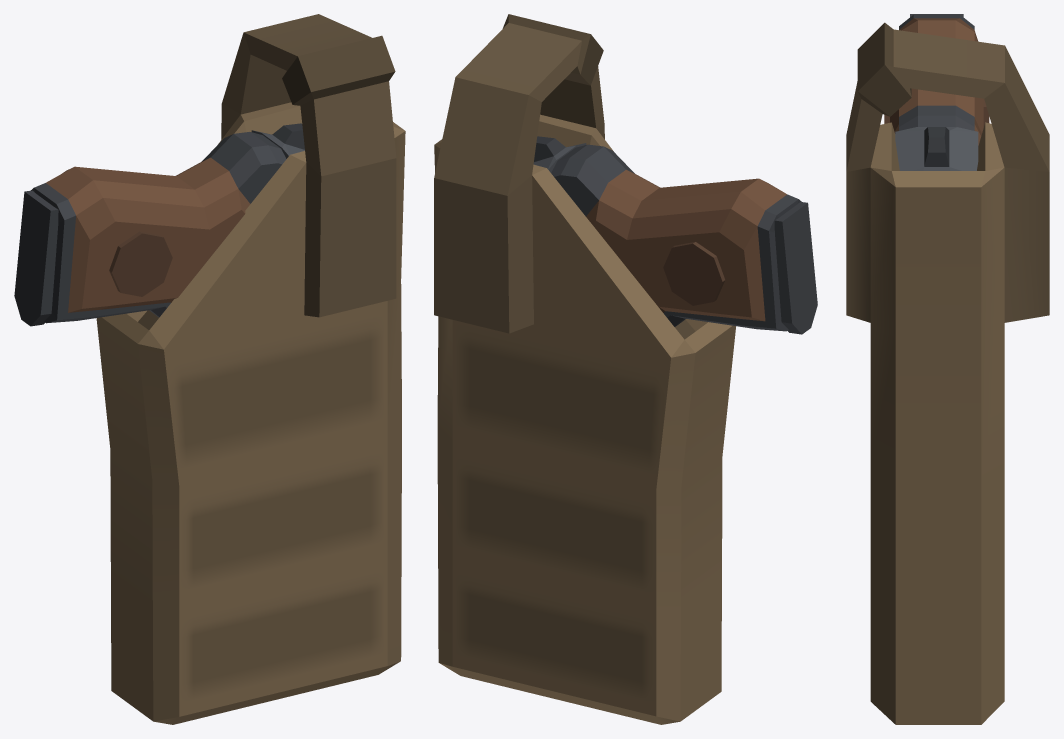
File: SM_Chr_Attach_Holster_Pistol_03.fbx
The picture shows the model from 3 angles, left to right: view 1: azimuth 30°, elevation 25°; view 2: azimuth 150°, elevation 25°; view 3: azimuth 270°, elevation 25°; orthographic projection. The views are drawn at different scales.
Parts seen in each view (by area): view 1: SM_Chr_Attach_Holster_Pistol_03; view 2: SM_Chr_Attach_Holster_Pistol_03; view 3: SM_Chr_Attach_Holster_Pistol_03.
Boxes of the visible parts, bbox=[...] form: SM_Chr_Attach_Holster_Pistol_03: bbox=[14, 14, 405, 724]; SM_Chr_Attach_Holster_Pistol_03: bbox=[434, 14, 817, 724]; SM_Chr_Attach_Holster_Pistol_03: bbox=[846, 14, 1049, 724].
Bounding box in the file's own units: 19.36 × 33.12 × 9.28.
